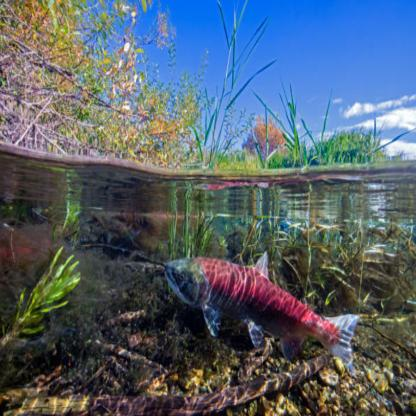sockeye: (160, 252, 354, 364)
